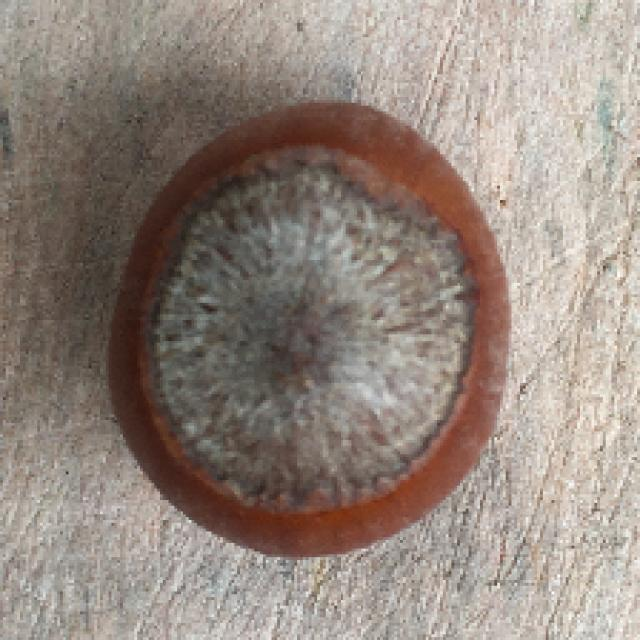QualityHazelnut: (103, 101, 516, 562)
